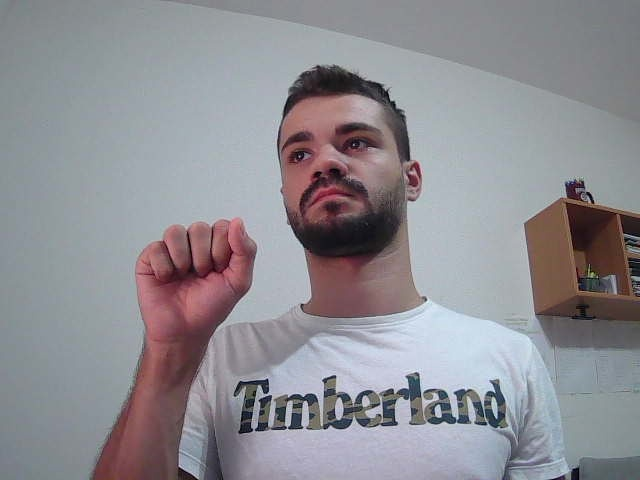a: (85, 208, 266, 468)
